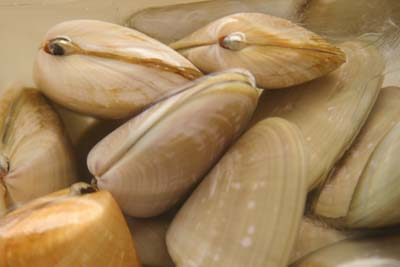tuatua: (84, 67, 259, 217), (161, 114, 308, 267), (278, 37, 385, 191), (29, 18, 197, 115), (171, 11, 347, 88), (1, 180, 146, 266)
